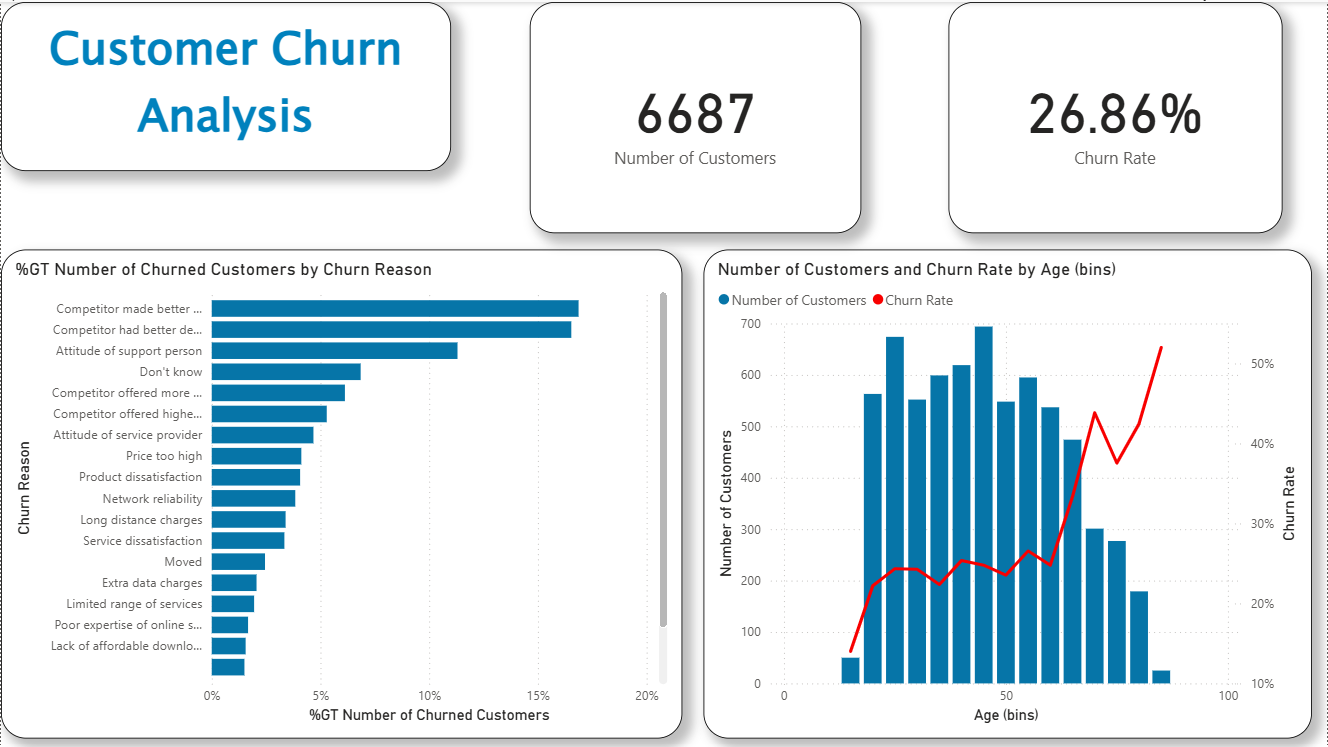

What the dashboard file says about the page in this screenshot:
{"tool":"powerbi","page":{"name":"Customer Churn Overview","canvas":[1280,720],"ordinal":1},"visuals":[{"type":"clusteredBarChart","fields":{"Category":["Databel - Data.Churn Reason"],"Y":["_Calculations.Number of Churned Customers"]},"box":[0,238.9,657.5,471.7],"z":0},{"type":"lineStackedColumnComboChart","fields":{"Category":["Databel - Data.Age (bins)"],"Y":["_Calculations.Number of Customers"],"Y2":["_Calculations.Churn Rate"]},"box":[678,238.9,587.5,471.7],"z":1000},{"type":"card","fields":{"Values":["select","_Calculations.Churn Rate"]},"box":[914.5,0,322.1,223.2],"z":2000},{"type":"card","fields":{"Values":["_Calculations.Number of Customers"]},"box":[510.3,0,319.7,223.2],"z":3000},{"type":"textbox","box":[0,0,434.3,162.9],"z":4000}]}

Visuals, with their boxes in screenshot pixels (x1, y1, x2, y2), scaled from the page's 1280x720 canvas onto the 1328x747 screenshot:
clusteredBarChart - Databel - Data.Churn Reason x _Calculations.Number of Churned Customers: box=[0, 248, 682, 737]
lineStackedColumnComboChart - Databel - Data.Age (bins) x _Calculations.Number of Customers: box=[703, 248, 1313, 737]
card - select x _Calculations.Churn Rate: box=[949, 0, 1283, 232]
card - _Calculations.Number of Customers: box=[529, 0, 861, 232]
textbox: box=[0, 0, 451, 169]
